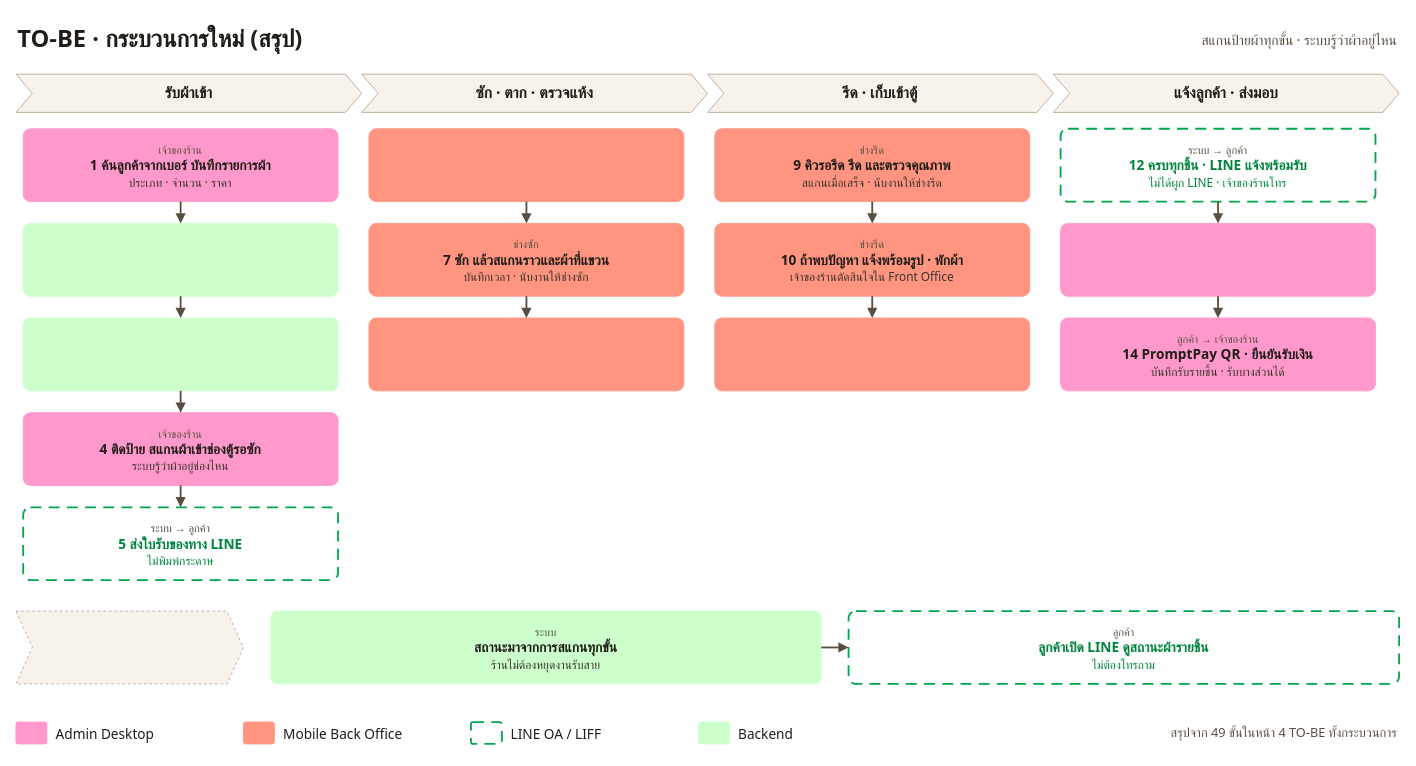
Some shapes in this 1416 by 766 pixel diagram are drawn without their labels. Here are the shapes that lost their labels. From the top down, the centre of each, then its label:
(526,165): ผู้ช่วย 6 คิวรอซักเรียงตามวันนัด หยิบจากช่องที่บอก · สแกนป้ายผ้า
(180,259): ระบบ 2 เสนอวันนัดรับ และคิดยอด งานที่รับไว้แล้ว เทียบกำลังต่อวัน
(1217,259): เจ้าของร้าน 13 ค้นบิลจากเบอร์หรือ QR ระบบบอกช่องที่เก็บ
(180,354): ระบบ 3 ออกเลขบิล พิมพ์ป้ายบาร์โค้ดรายชิ้น หลังเจ้าของร้านยืนยันวันนัดและยอด
(526,354): ผู้ช่วย 8 รายการน่าจะแห้ง เวลาขึ้นราว + เวลาตาก · สแกนชิ้นที่แห้ง
(872,354): ผู้ช่วย 11 สแกนเก็บเข้าช่องที่ระบบแนะนำ ช่องเดียวกับชิ้นอื่นของบิล
(129,647): ลูกค้าดูสถานะเอง
